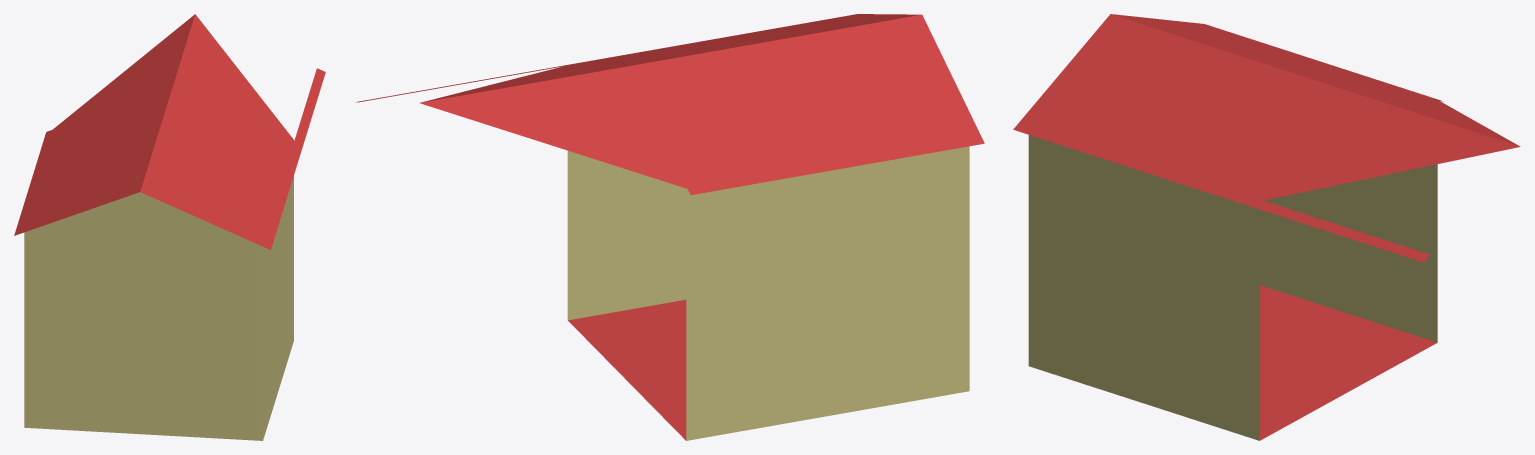
3 views of the same model, side by side, from view 1: azimuth 30°, elevation 25°; view 2: azimuth 150°, elevation 25°; view 3: azimuth 270°, elevation 25° (orthographic). The views are drawn at different scales.
Size of the model in its own units: 12.79 by 11.51 by 7.48.
